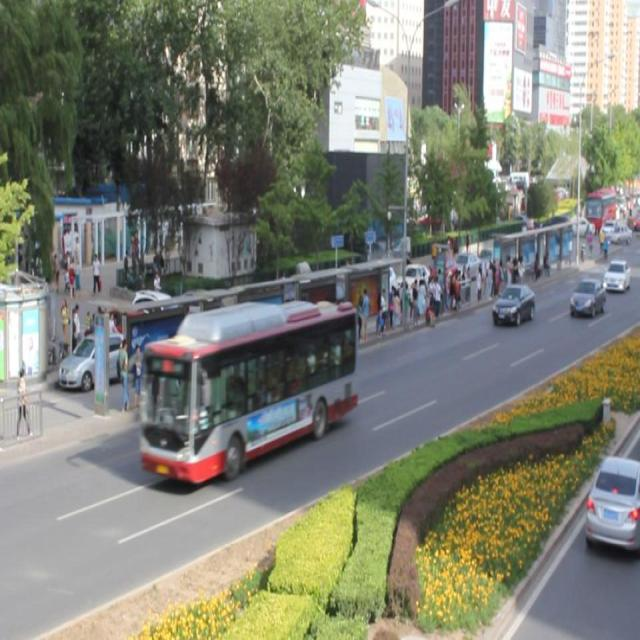car: (491, 283, 534, 327), (567, 279, 603, 315), (600, 260, 629, 292)
van: (139, 300, 353, 482)
